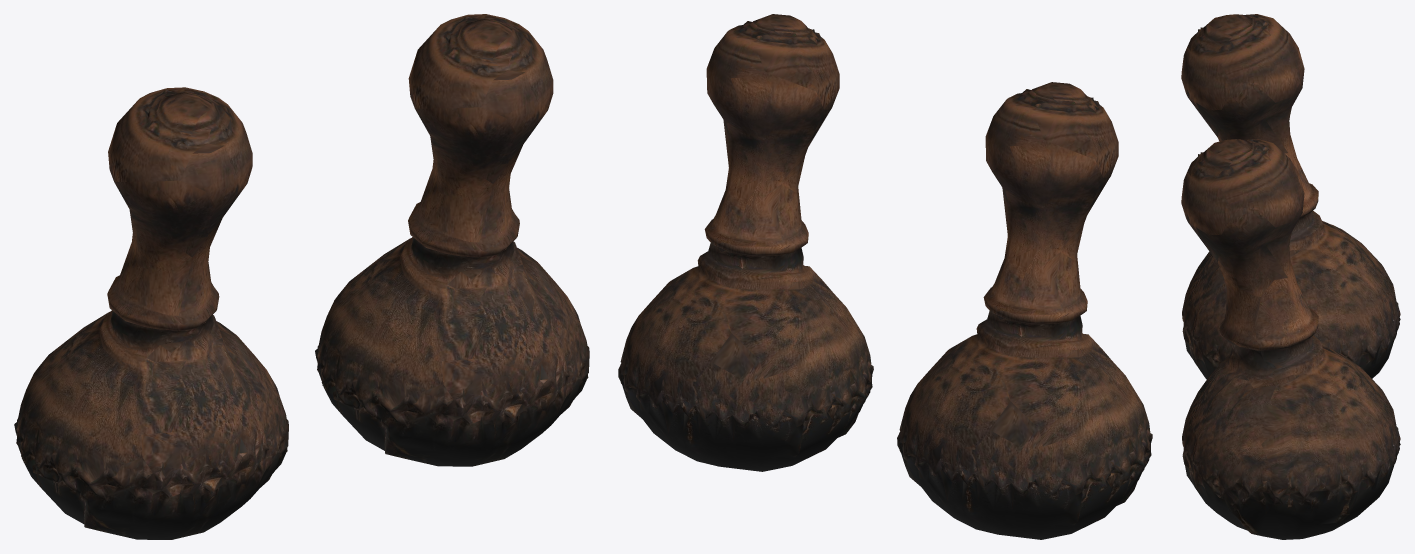
File: printer-ink-balls.glb
The picture shows the model from 3 angles, left to right: view 1: azimuth 30°, elevation 25°; view 2: azimuth 150°, elevation 25°; view 3: azimuth 270°, elevation 25°; orthographic projection. The views are drawn at different scales.
Parts seen in each view (by area): view 1: InkBall_Right, InkBall_Left; view 2: InkBall_Right, InkBall_Left; view 3: InkBall_Right, InkBall_Left.
Part boxes in pixels (bbox=[...]): InkBall_Right: bbox=[315, 14, 589, 466]; InkBall_Left: bbox=[14, 87, 288, 539]; InkBall_Right: bbox=[618, 14, 873, 471]; InkBall_Left: bbox=[897, 82, 1152, 539]; InkBall_Right: bbox=[1181, 139, 1400, 539]; InkBall_Left: bbox=[1181, 14, 1400, 379].
Size of the model in its own units: 0.3796 by 0.2993 by 0.156.
Materials: 1 (1 with a texture image).
